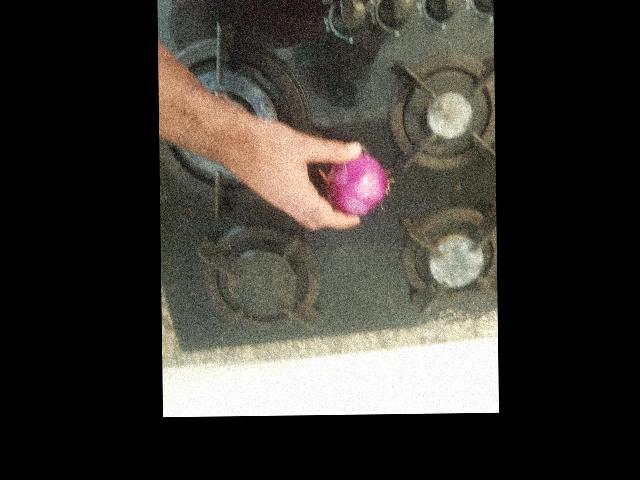onion: (359, 236, 427, 304)
